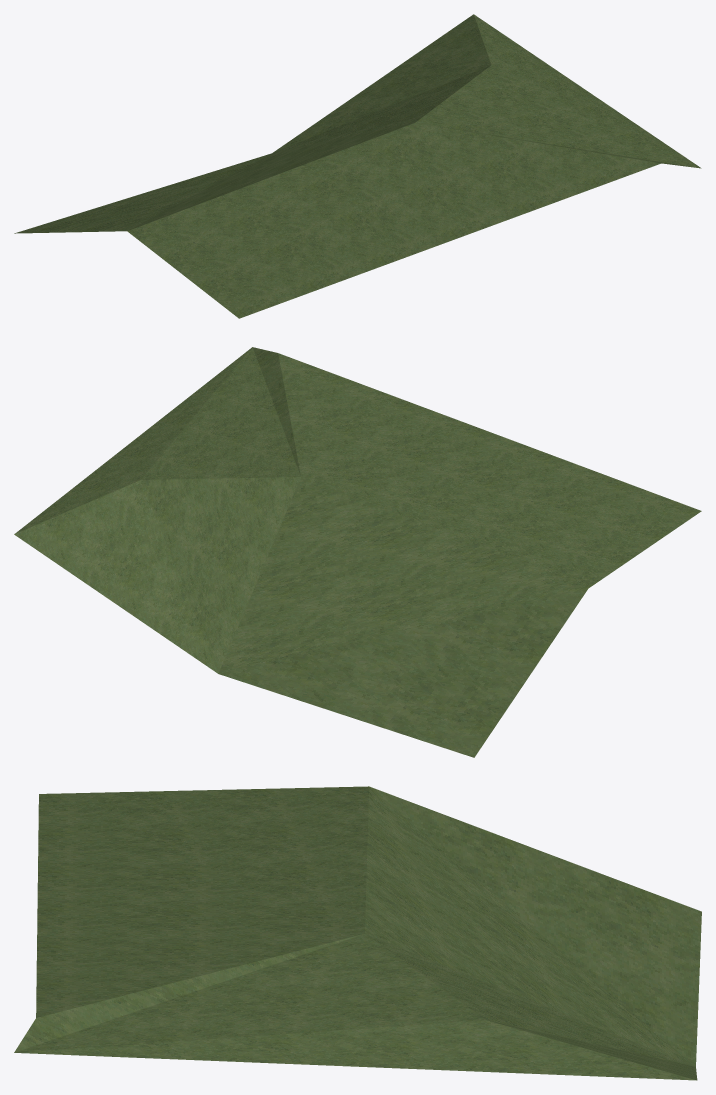
The model's file is LODa_carisle_mid_landmass_02_11.fbx.
3 renders of one model, top to bottom at view 1: azimuth 30°, elevation 25°; view 2: azimuth 150°, elevation 25°; view 3: azimuth 270°, elevation 25°, orthographic. The views are drawn at different scales.
Parts seen in each view (by area): view 1: LODa_carisle_mid_landmass_02_11; view 2: LODa_carisle_mid_landmass_02_11; view 3: LODa_carisle_mid_landmass_02_11.
Boxes of the visible parts, x1,y1,x2,y2 form: LODa_carisle_mid_landmass_02_11: (14, 14, 701, 318); LODa_carisle_mid_landmass_02_11: (14, 347, 701, 757); LODa_carisle_mid_landmass_02_11: (14, 786, 701, 1080).
Size of the model in its own units: 26.45 by 23.38 by 7.34.
